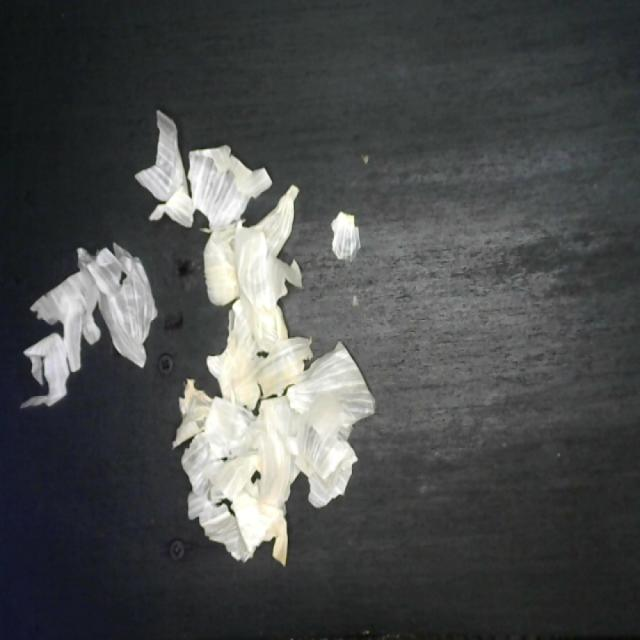biodegradable: (12, 111, 376, 571)
